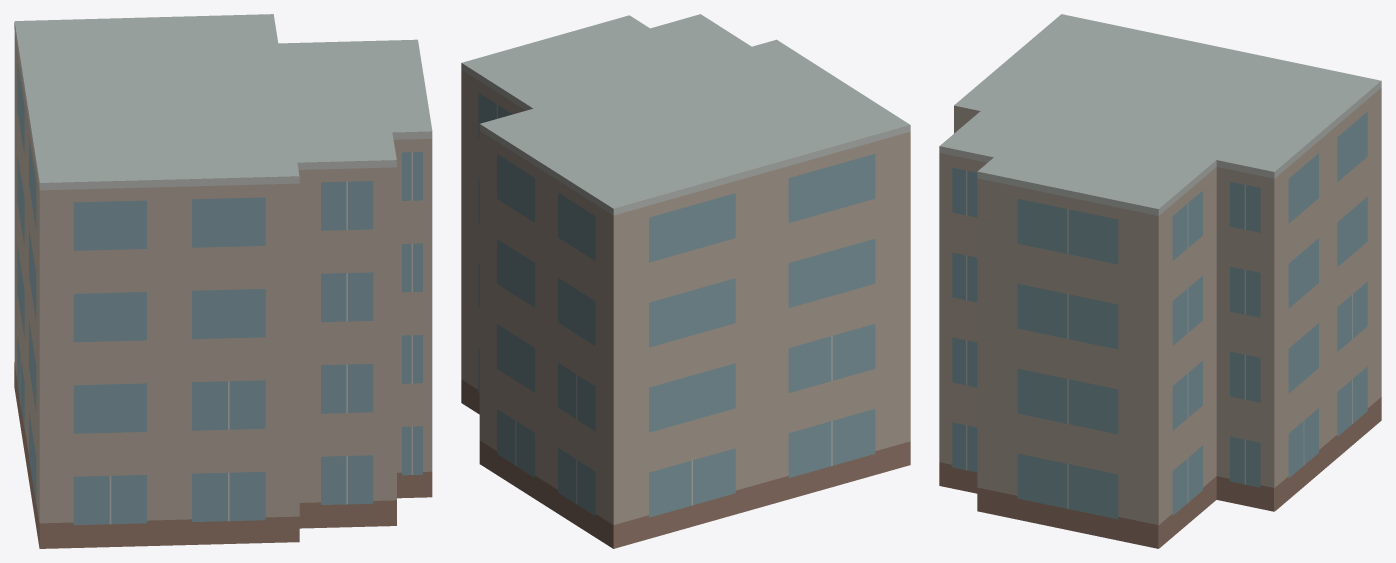
The model's file is survey-upis-32783087.glb.
The picture shows the model from 3 angles, left to right: view 1: azimuth 30°, elevation 25°; view 2: azimuth 150°, elevation 25°; view 3: azimuth 270°, elevation 25°; orthographic projection. The views are drawn at different scales.
Visible parts, largest first — view 1: survey-upis-32783087.tmp; view 2: survey-upis-32783087.tmp; view 3: survey-upis-32783087.tmp.
Part boxes in pixels (left/top/right/bottom): survey-upis-32783087.tmp: left=14, top=14, right=432, bottom=548; survey-upis-32783087.tmp: left=461, top=14, right=910, bottom=548; survey-upis-32783087.tmp: left=939, top=14, right=1381, bottom=548.
Size of the model in its own units: 15.04 by 12.2 by 14.4.
